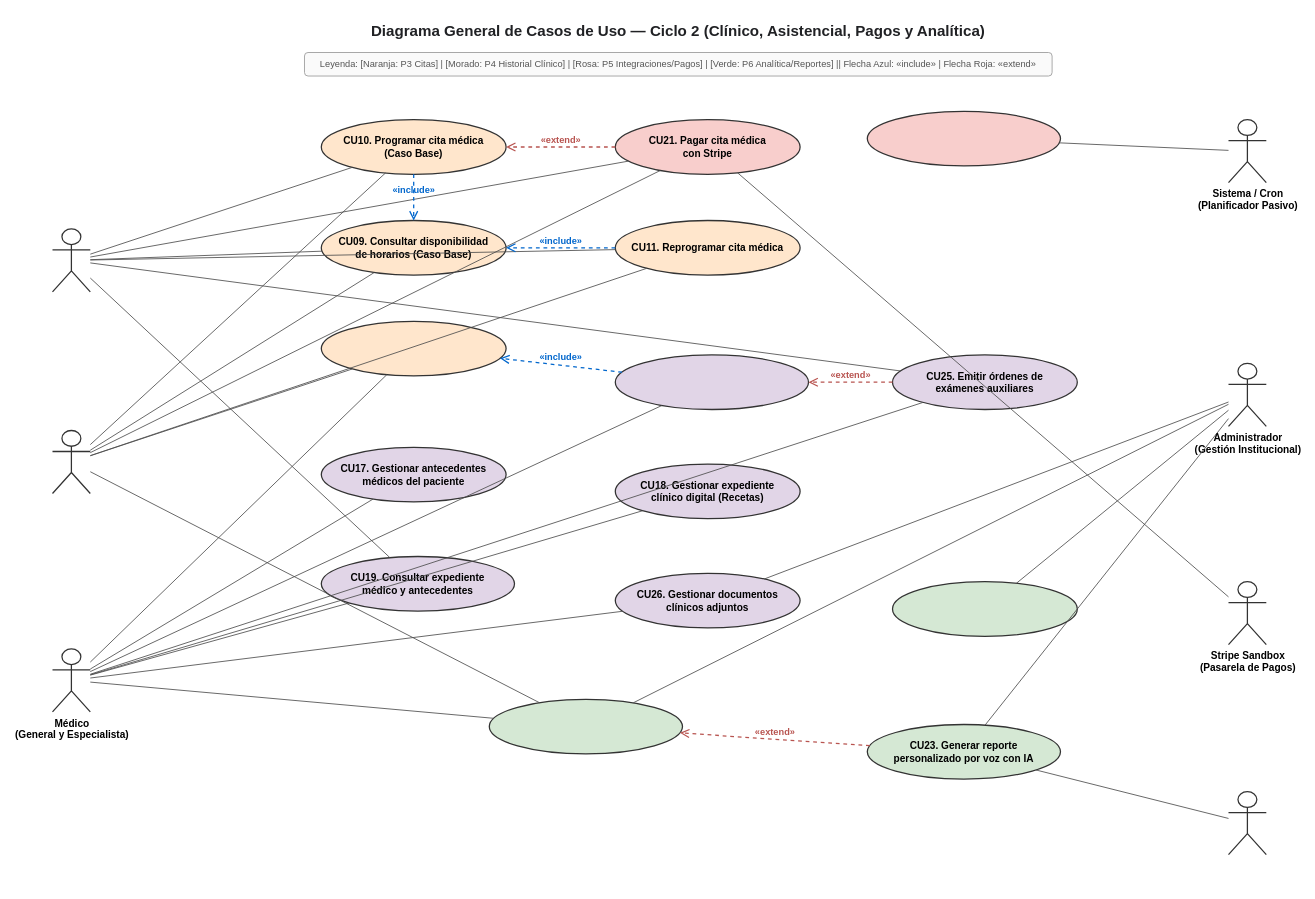
The diagram is 1315 pixels wide and 899 high, and some of its shapes have lost their labels. Here are the shapes that lost their labels. From the top down, the box of each, then its label:
(866, 110, 1061, 166): CU20. Enviar recordatorios y notificaciones automáticas
(51, 228, 91, 292): Paciente (Autoservicio Web)
(320, 320, 506, 376): CU13. Registrar asistencia y estado de cita
(614, 354, 809, 410): CU16. Registrar consulta médica (Triaje y Diagnóstico)
(51, 429, 91, 494): Recepcionista (Admisión y Citas)
(891, 581, 1078, 637): CU24. Consultar dashboard administrativo y KPIs
(488, 698, 683, 754): CU22. Generar reportes con filtros dinámicos
(1227, 791, 1267, 855): Servicio de IA (NLP / Transcripción)
